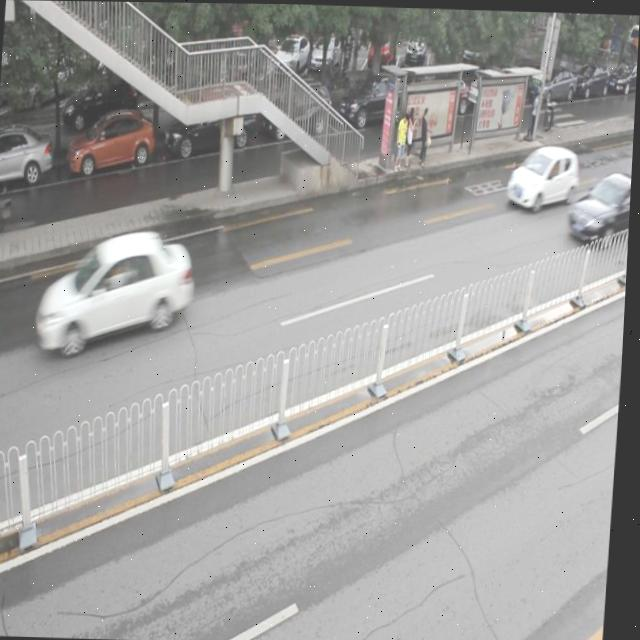car: (42, 224, 198, 354), (163, 80, 258, 152), (68, 110, 158, 179), (506, 142, 580, 209), (262, 77, 335, 140), (337, 70, 412, 130), (568, 170, 633, 238), (0, 125, 56, 186)
